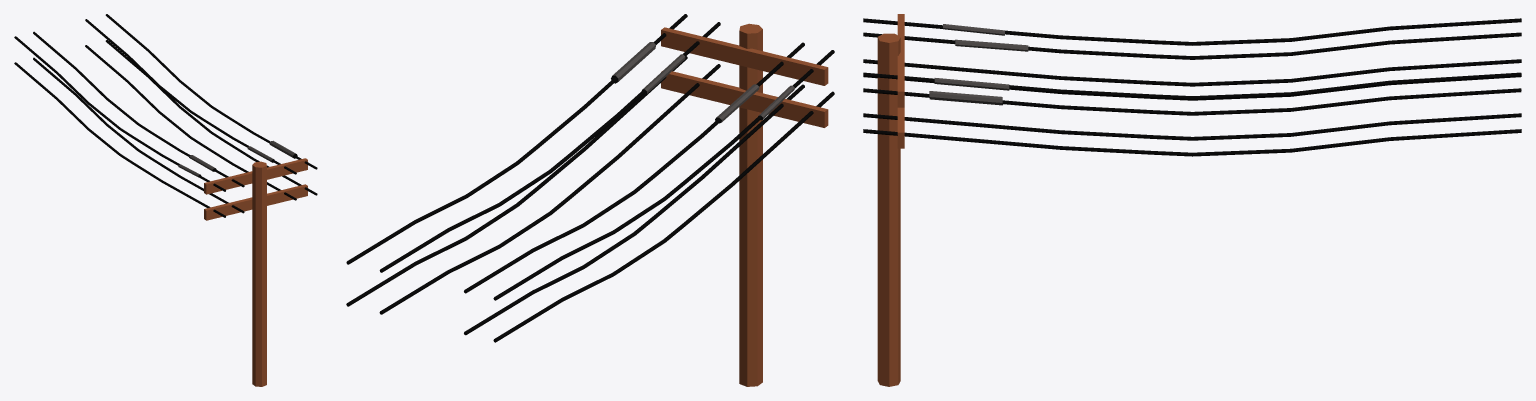
Rendered from Power_Lines_Connection.fbx.
3 renders of one model, left to right at view 1: azimuth 30°, elevation 25°; view 2: azimuth 150°, elevation 25°; view 3: azimuth 270°, elevation 25°, orthographic. The views are drawn at different scales.
Parts seen in each view (by area): view 1: Power_Line_Connection; view 2: Power_Line_Connection; view 3: Power_Line_Connection.
Part boxes in pixels (x1,y1,x2,y2): Power_Line_Connection: [14, 14, 317, 386]; Power_Line_Connection: [346, 14, 834, 386]; Power_Line_Connection: [863, 14, 1521, 386].
Size of the model in its own units: 25.9 by 53.43 by 92.65.
